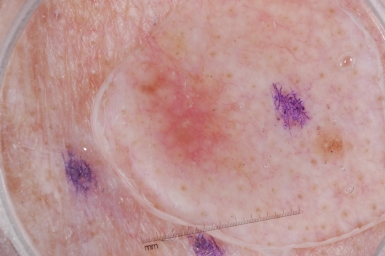seborrheic keratosis: (132, 63, 260, 181)
